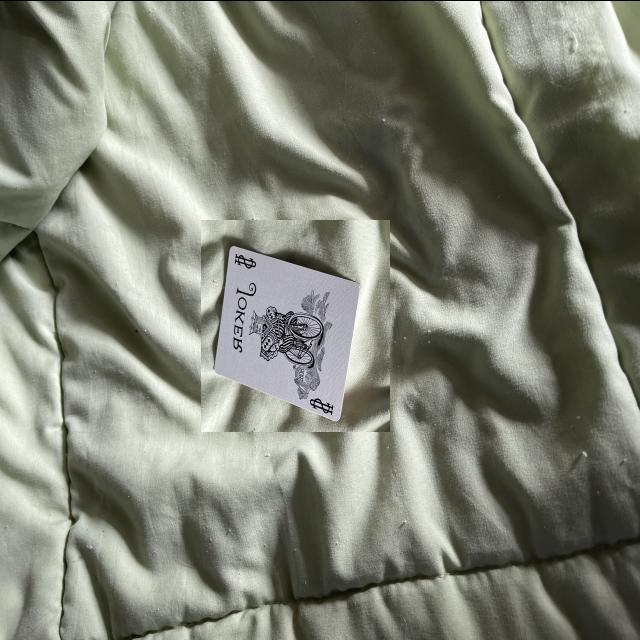Joker: (201, 219, 390, 431)
